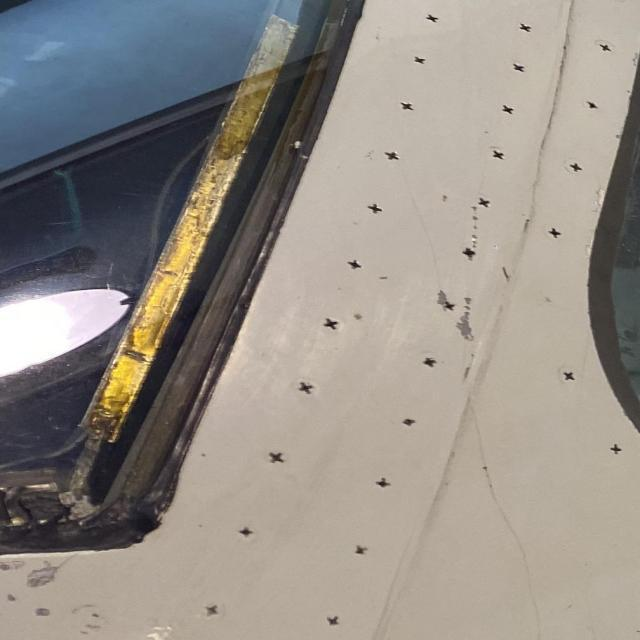Paint-off: (26, 566, 59, 588), (454, 311, 473, 340), (34, 606, 51, 618)
